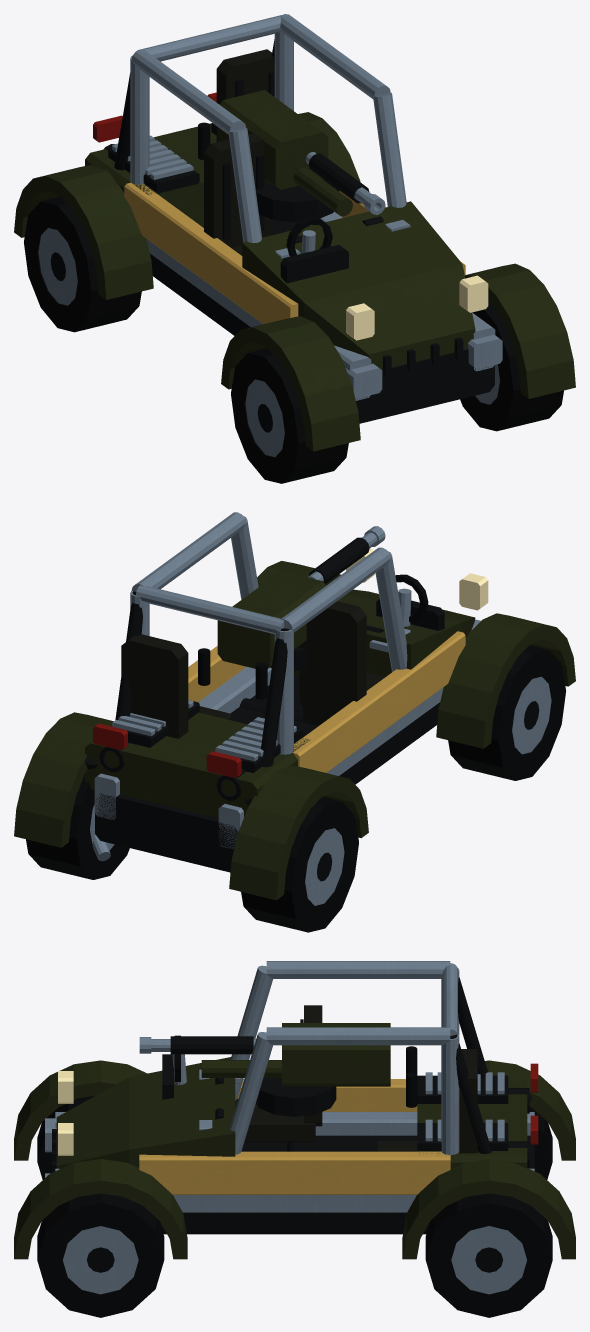
The model's file is scout-lod1.glb.
3 renders of one model, top to bottom at view 1: azimuth 30°, elevation 25°; view 2: azimuth 150°, elevation 25°; view 3: azimuth 270°, elevation 25°, orthographic. The views are drawn at different scales.
Visible parts, largest first — view 1: body, turret, wheel_1, wheel_0, wheel_3; view 2: body, wheel_0, wheel_1, turret, wheel_2; view 3: body, wheel_2, wheel_3, turret, wheel_0, wheel_1.
Part boxes in pixels (bbox=[...]): body: bbox=[14, 14, 575, 451]; turret: bbox=[198, 90, 385, 222]; wheel_1: bbox=[231, 348, 348, 483]; wheel_0: bbox=[24, 196, 141, 332]; wheel_3: bbox=[460, 301, 563, 431]; body: bbox=[14, 512, 575, 900]; wheel_0: bbox=[241, 797, 358, 932]; wheel_1: bbox=[448, 645, 565, 780]; turret: bbox=[198, 526, 385, 699]; wheel_2: bbox=[26, 774, 129, 879]; body: bbox=[14, 961, 575, 1259]; wheel_2: bbox=[425, 1193, 552, 1317]; wheel_3: bbox=[37, 1193, 164, 1317]; turret: bbox=[139, 1023, 417, 1116]; wheel_0: bbox=[529, 1107, 552, 1179]; wheel_1: bbox=[37, 1095, 95, 1179].
Bounding box in the file's own units: 1.12 × 1.12 × 2.17.
Materials: 8 (7 with a texture image).
